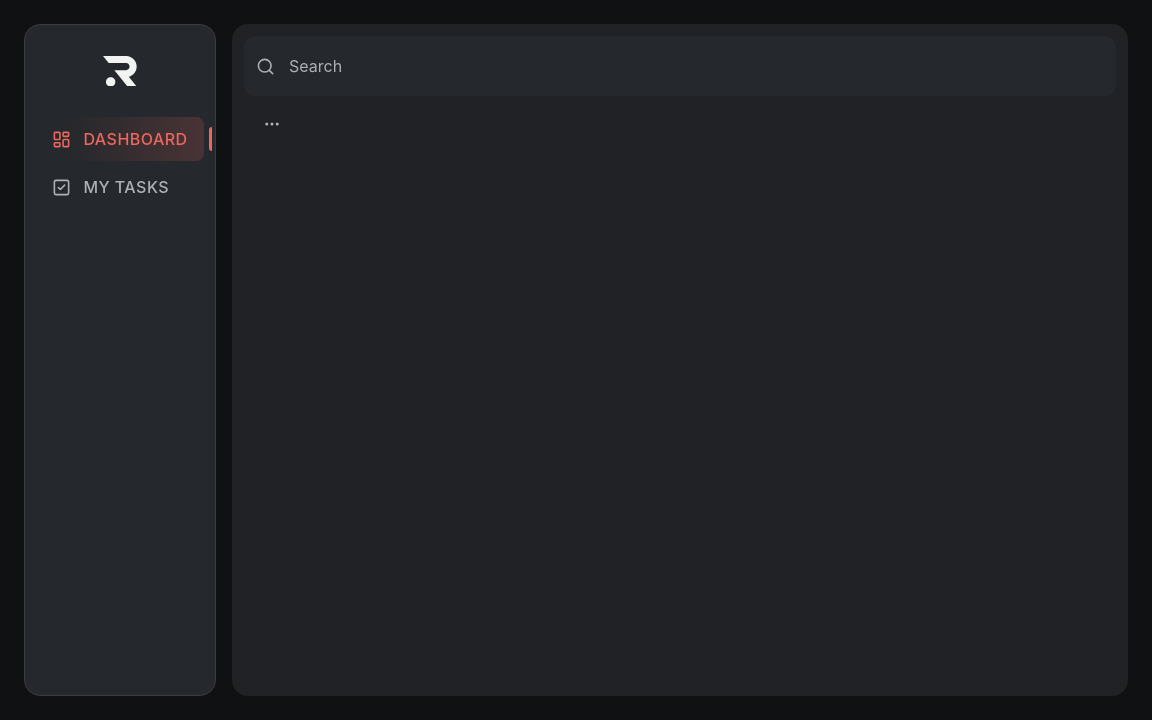
AppLayout task editing › opens the composition already filled with the task its menu belongs to
Click the button named "More options for Ship the mutation": (272, 124) [256,108,288,140]
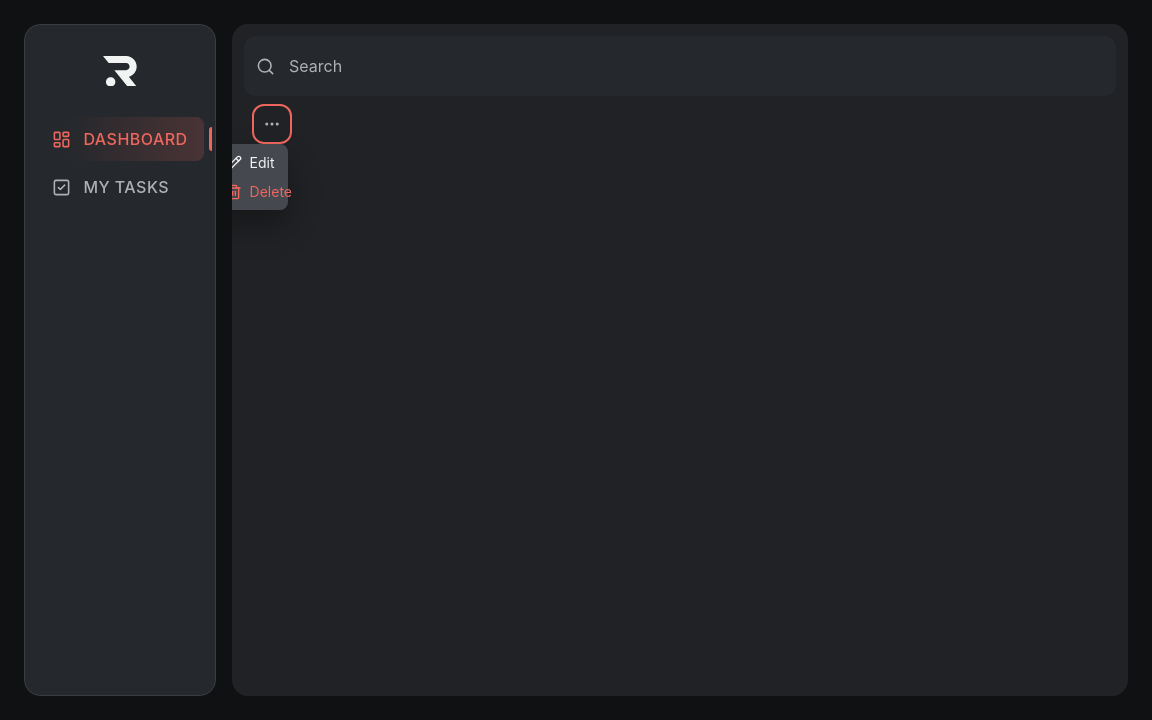
Click the menu item "Edit": (251, 162) [218,148,284,177]
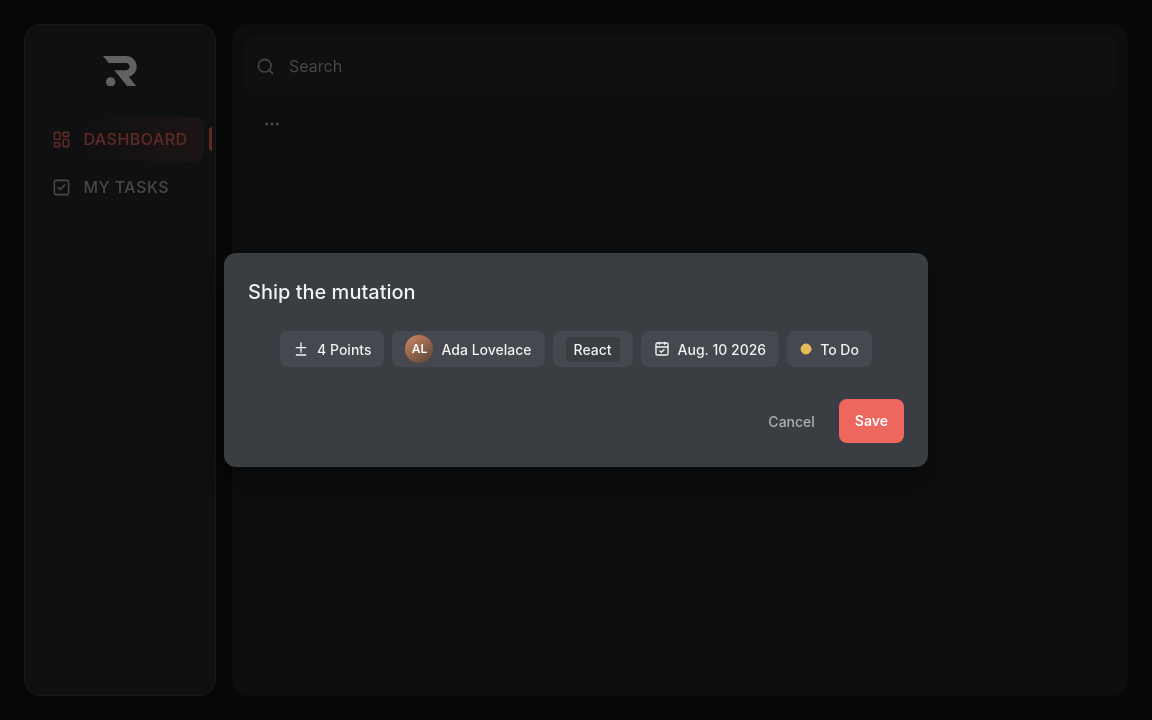
Result: the dialog named "Edit Task" is shown at [224,253,928,467]
Result: the field named "Task Title" holds "Ship the mutation" at [248,277,904,307]
Result: the button "Save" is shown at [839,399,904,443]
